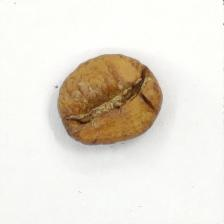NG: (68, 74, 141, 127)
